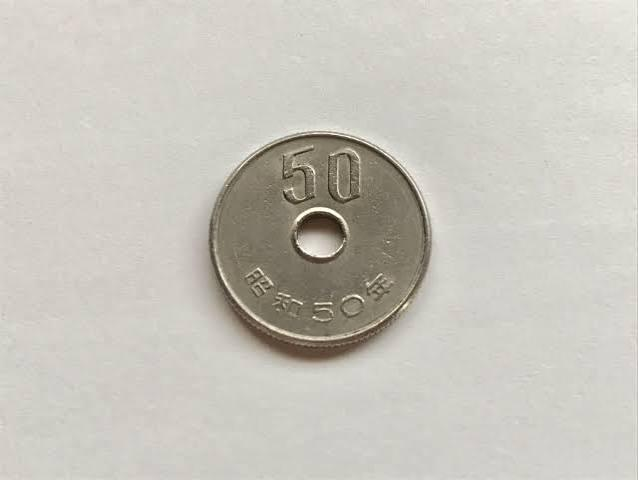year: (242, 265, 393, 327)
